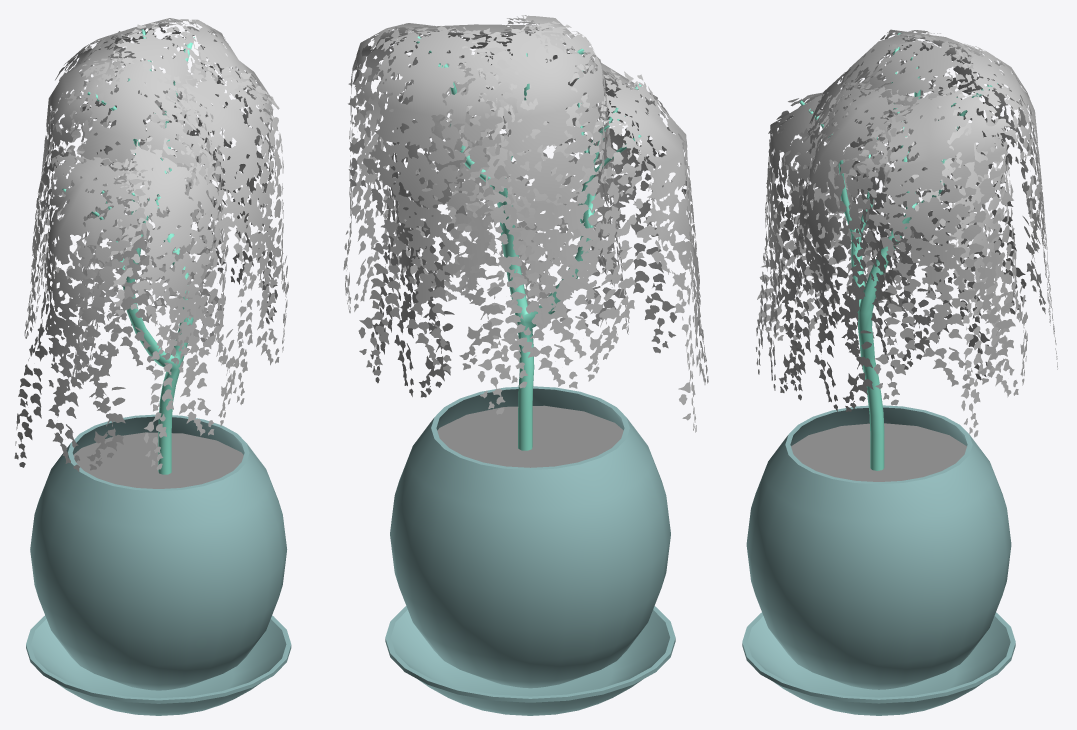
File: funkis_Plant.fbx
3 renders of one model, left to right at view 1: azimuth 30°, elevation 25°; view 2: azimuth 150°, elevation 25°; view 3: azimuth 270°, elevation 25°, orthographic. The views are drawn at different scales.
Parts seen in each view (by area): view 1: Leafs, Plant, Plant001; view 2: Leafs, Plant, Plant001; view 3: Leafs, Plant, Plant001.
Boxes of the visible parts, left/top/right/bottom form: Leafs: left=14, top=18, right=288, bottom=471; Plant: left=26, top=414, right=291, bottom=715; Plant001: left=62, top=29, right=194, bottom=474; Leafs: left=343, top=15, right=708, bottom=432; Plant: left=385, top=386, right=675, bottom=715; Plant001: left=415, top=36, right=641, bottom=450; Leafs: left=755, top=29, right=1057, bottom=437; Plant: left=742, top=405, right=1015, bottom=715; Plant001: left=799, top=33, right=997, bottom=470.
Bounding box in the file's own units: 84 × 179 × 81.2.
